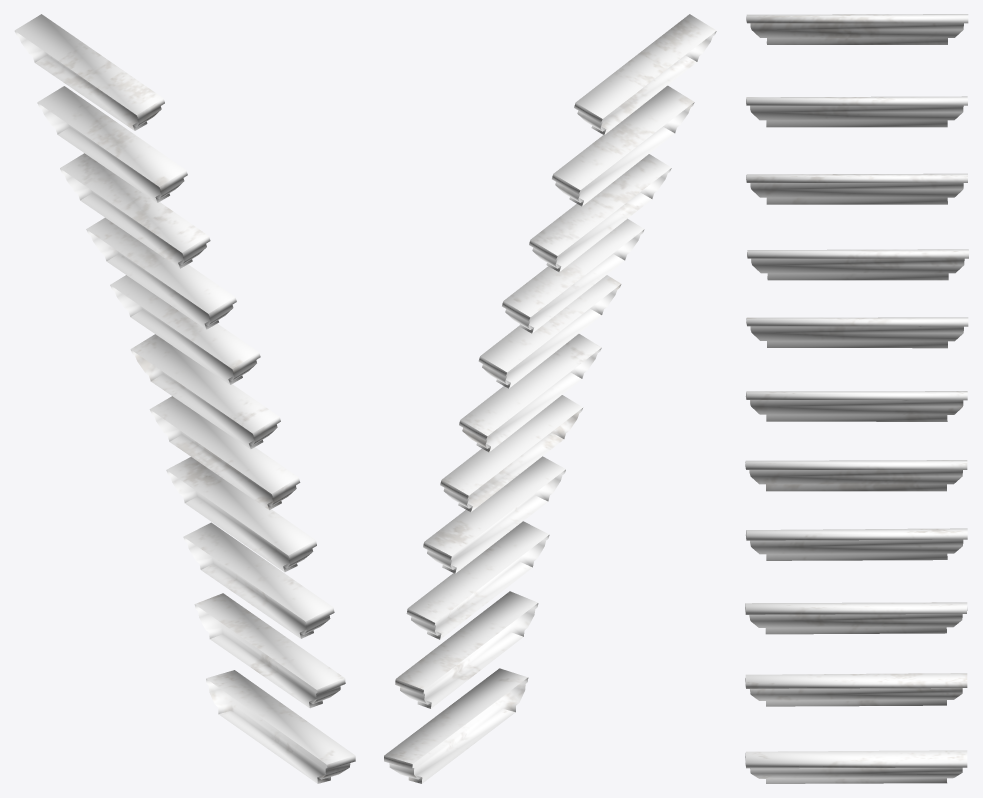
The model's file is LadderLeft.fbx.
3 renders of one model, left to right at view 1: azimuth 30°, elevation 25°; view 2: azimuth 150°, elevation 25°; view 3: azimuth 270°, elevation 25°, orthographic. The views are drawn at different scales.
Visible parts, largest first — view 1: SternDetail.002; view 2: SternDetail.002; view 3: SternDetail.002.
Part boxes in pixels (x1,y1,x2,y2): SternDetail.002: [14, 14, 355, 783]; SternDetail.002: [384, 14, 716, 783]; SternDetail.002: [745, 14, 968, 783].
Size of the model in its own units: 96.93 by 306 by 90.37.
